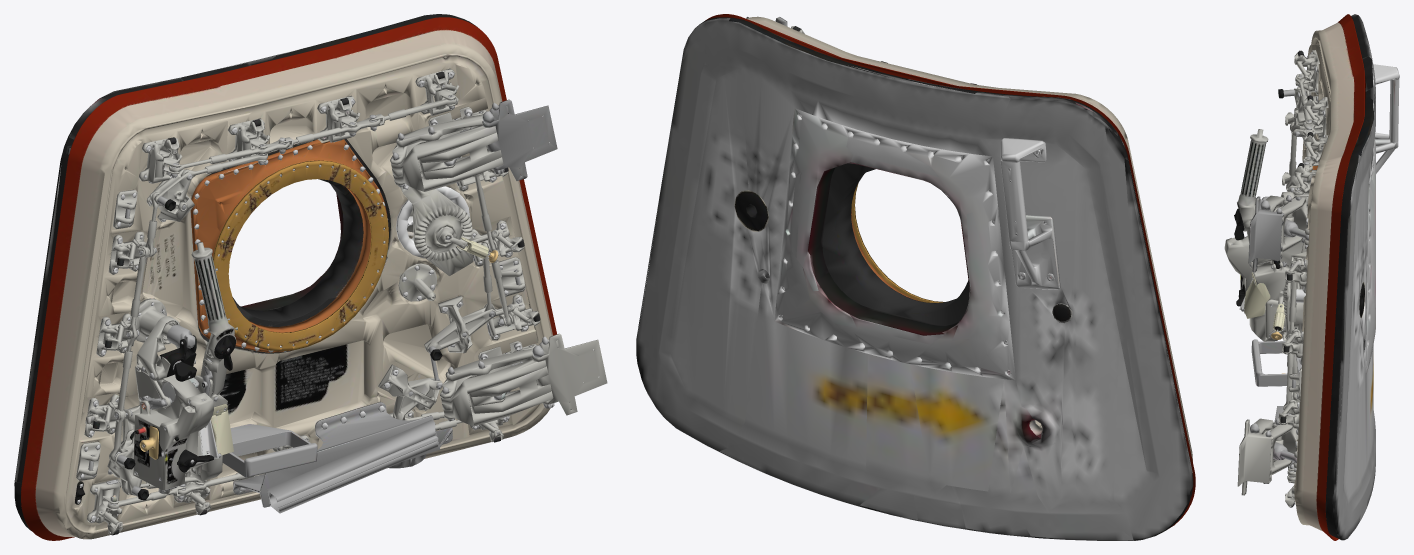
The model's file is apollo-hatch.glb.
The picture shows the model from 3 angles, left to right: view 1: azimuth 30°, elevation 25°; view 2: azimuth 150°, elevation 25°; view 3: azimuth 270°, elevation 25°; orthographic projection. The views are drawn at different scales.
Visible parts, largest first — view 1: Mesh_0.049; view 2: Mesh_0.049; view 3: Mesh_0.049.
Boxes of the visible parts, <box> form: Mesh_0.049: <box>14,14,607,540</box>; Mesh_0.049: <box>636,14,1195,540</box>; Mesh_0.049: <box>1224,14,1399,540</box>.
Bounding box in the file's own units: 1.04 × 0.8006 × 0.3382.
Materials: 3 (3 with a texture image).
